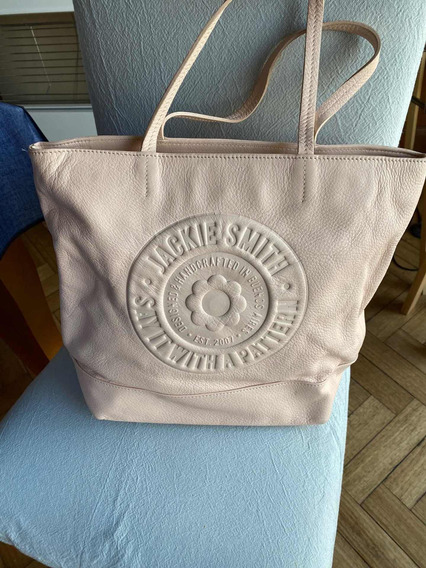cartera: (24, 1, 426, 430)
